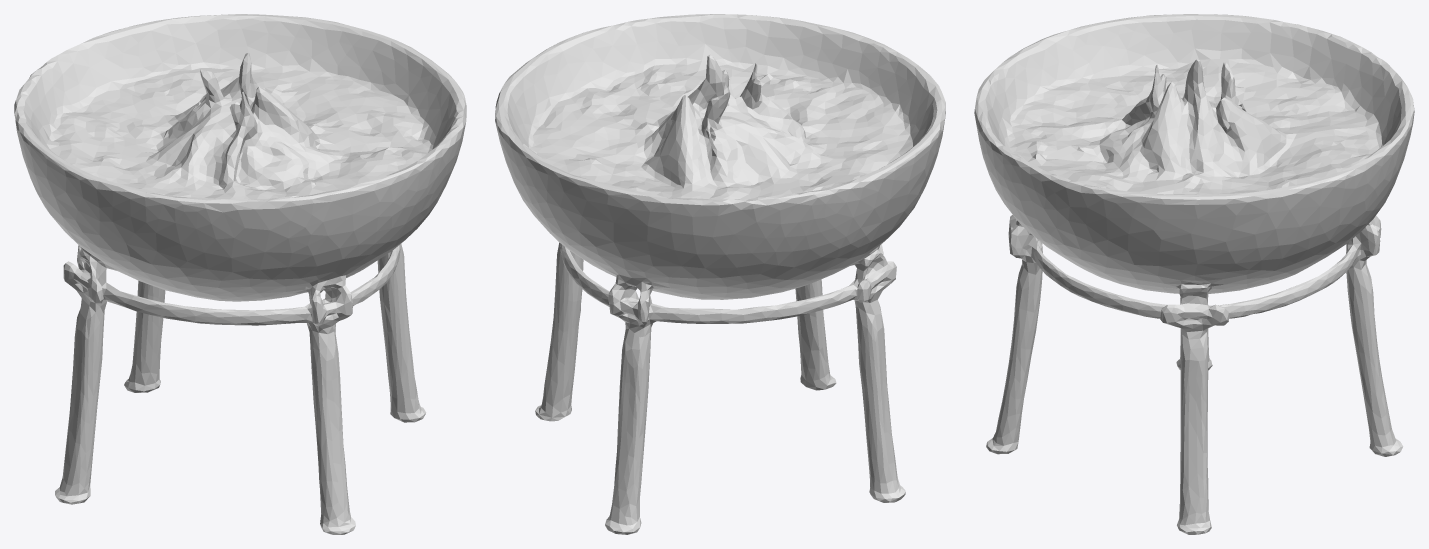
File: brazier_trip_r2.glb
3 renders of one model, left to right at view 1: azimuth 30°, elevation 25°; view 2: azimuth 150°, elevation 25°; view 3: azimuth 270°, elevation 25°, orthographic. The views are drawn at different scales.
Parts seen in each view (by area): view 1: Low; view 2: Low; view 3: Low.
Part boxes in pixels (x1,y1,x2,y2): Low: (14, 14, 466, 534); Low: (495, 14, 945, 534); Low: (974, 14, 1414, 534).
Bounding box in the file's own units: 1.98 × 1.97 × 1.98.
1 material, 1 textured.
